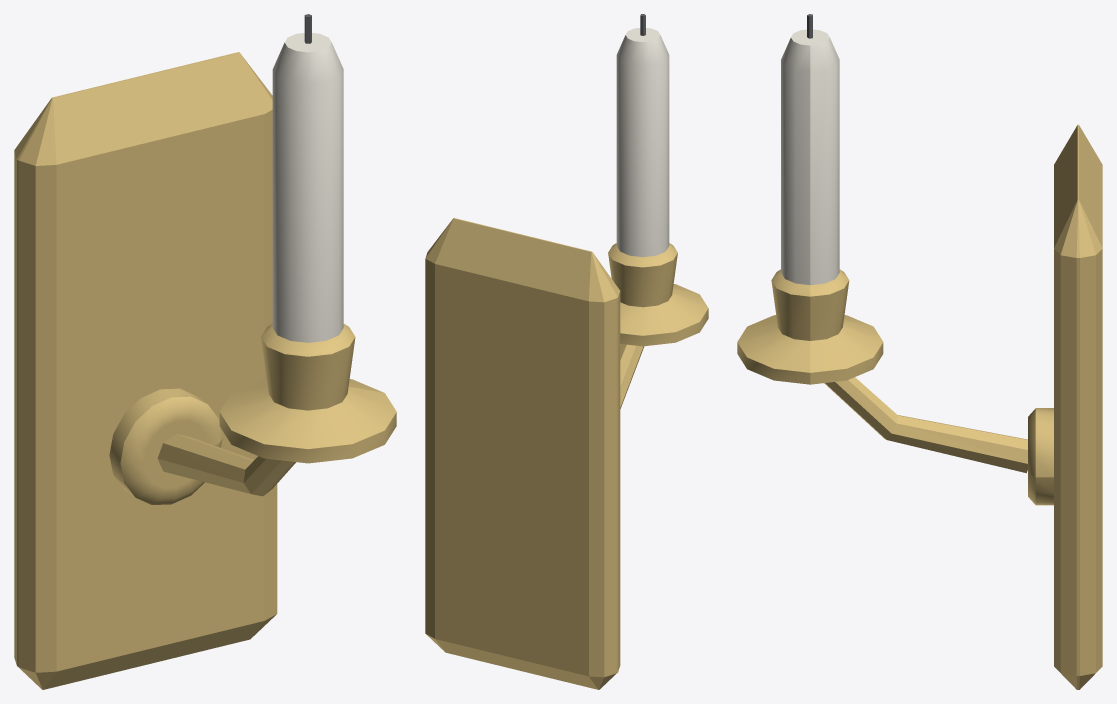
File: escape-room-and-puzzle-venue-candle-sconce-lever-d0c3cae6__35800.glb
3 renders of one model, left to right at view 1: azimuth 30°, elevation 25°; view 2: azimuth 150°, elevation 25°; view 3: azimuth 270°, elevation 25°, orthographic. The views are drawn at different scales.
Visible parts, largest first — view 1: candle-sconce-lever, lever/cream, lever/brass; view 2: candle-sconce-lever, lever/cream, lever/brass; view 3: candle-sconce-lever, lever/brass, lever/cream.
Part boxes in pixels (box(x1,y1,x2,y2)): candle-sconce-lever: box(14, 52, 277, 689); lever/cream: box(272, 33, 343, 342); lever/brass: box(157, 323, 396, 496); candle-sconce-lever: box(425, 218, 620, 689); lever/cream: box(616, 28, 669, 256); lever/brass: box(608, 243, 708, 408); candle-sconce-lever: box(1028, 124, 1102, 689); lever/brass: box(737, 269, 1027, 473); lever/cream: box(781, 29, 839, 285).
Bounding box in the file's own units: 0.15 × 0.43 × 0.225.
